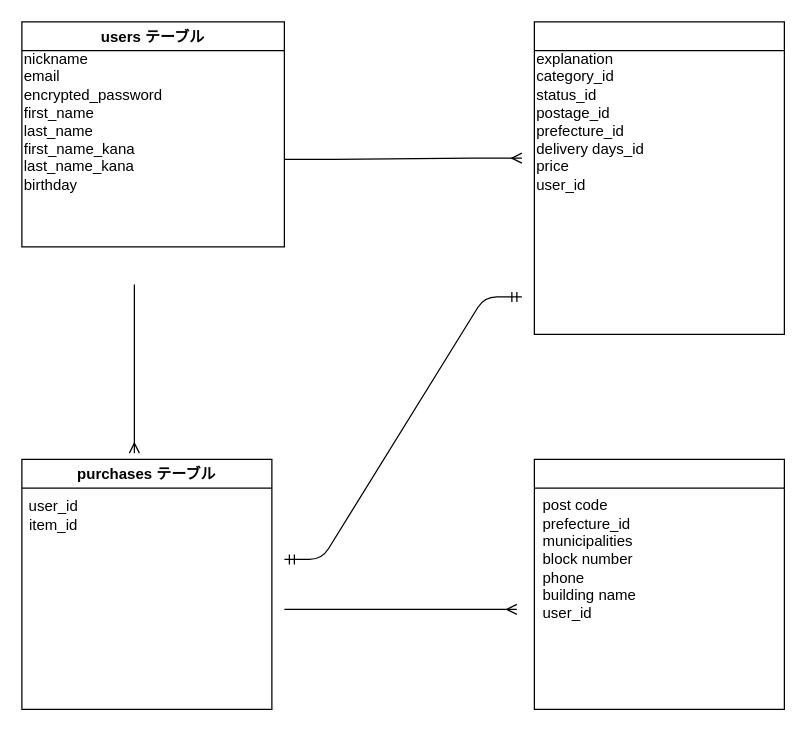
The diagram is 806 pixels wide and 731 high, and some of its shapes have lost their labels. Here are the shapes that lost their labels. From the top down, the box of each, then its label:
(533, 21, 784, 334): items テーブル
(533, 458, 784, 709): deliveries テーブル
